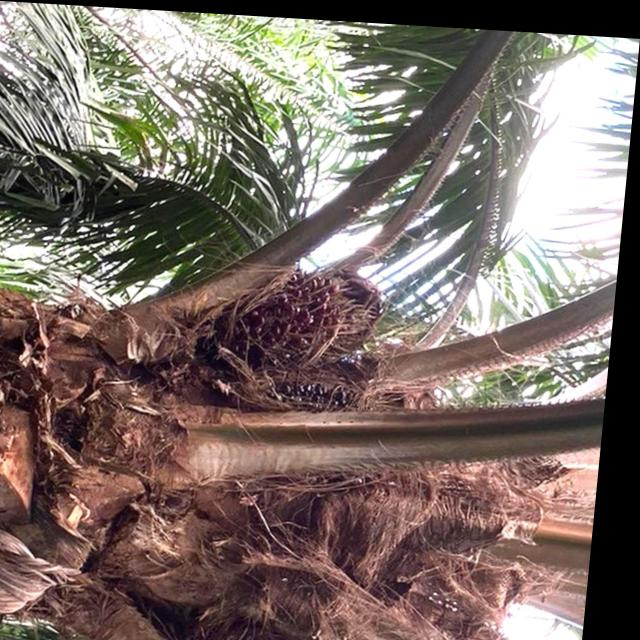ripe: (213, 265, 378, 364)
